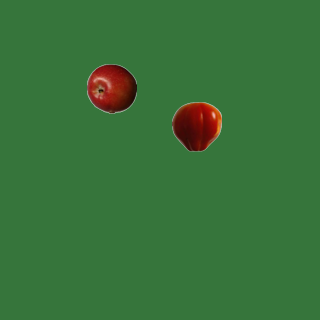Apple Braeburn: (86, 63, 136, 113)
Tomato 1: (171, 101, 221, 151)
